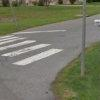Crosswalk: (1, 31, 61, 68)
